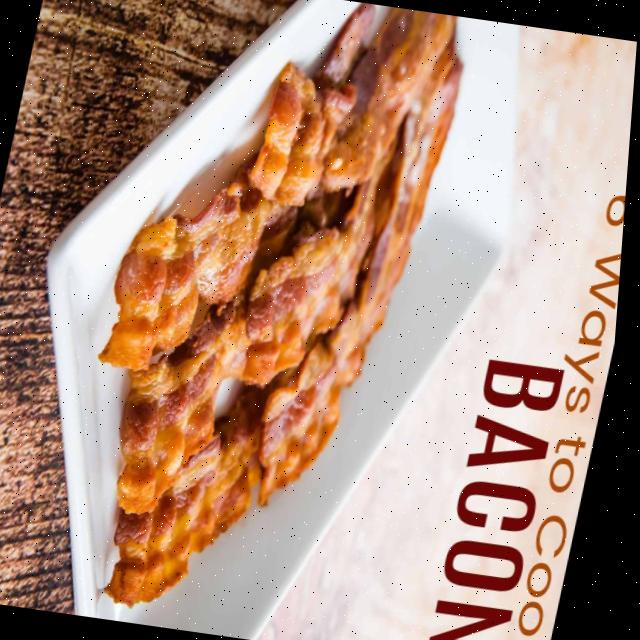Bacon: (104, 177, 292, 371), (114, 387, 272, 607), (248, 159, 390, 386), (359, 40, 463, 345), (325, 7, 454, 191)
